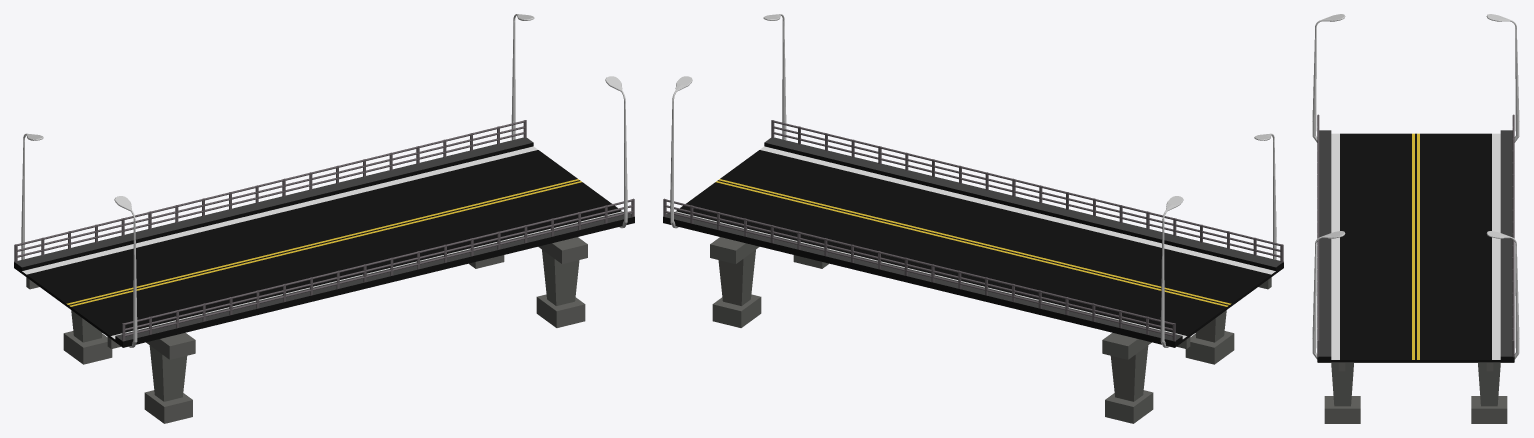
File: Bridge.fbx
3 renders of one model, left to right at view 1: azimuth 30°, elevation 25°; view 2: azimuth 150°, elevation 25°; view 3: azimuth 270°, elevation 25°, orthographic. The views are drawn at different scales.
Visible parts, largest first — view 1: Cube, Cylinder.001, Cube.002, Circle; view 2: Cube, Cylinder.001, Cube.002, Circle; view 3: Cube, Cube.002, Circle, Cylinder.001.
Part boxes in pixels (box(x1,y1,x2,y2)): Cube: box(14, 137, 634, 347); Cylinder.001: box(14, 120, 634, 341); Cube.002: box(63, 237, 587, 423); Circle: box(21, 14, 627, 347); Cube: box(663, 137, 1283, 347); Cylinder.001: box(663, 120, 1283, 341); Cube.002: box(710, 237, 1234, 423); Circle: box(670, 14, 1276, 347); Cube: box(1317, 130, 1514, 362); Cube.002: box(1317, 362, 1514, 423); Circle: box(1312, 14, 1519, 359); Cylinder.001: box(1317, 114, 1514, 357).
Bounding box in the file's own units: 2258 × 962 × 873.
